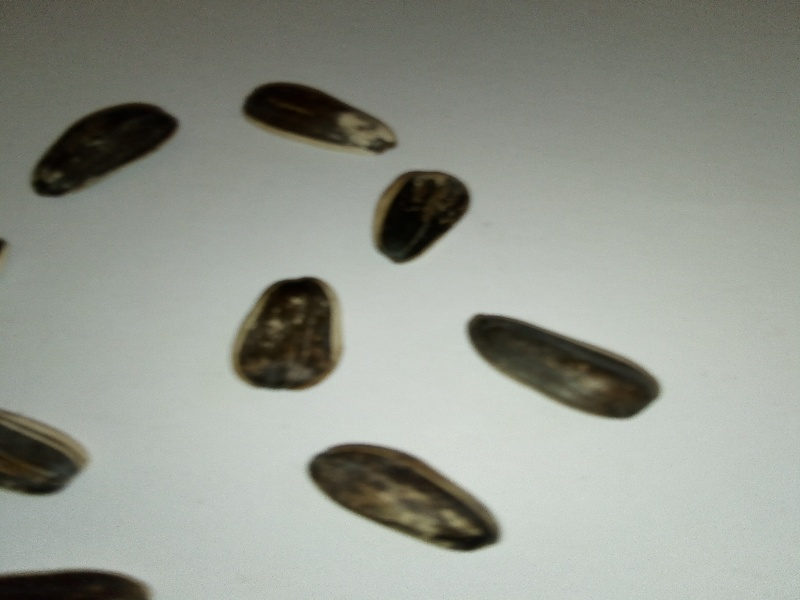girasol: (455, 304, 677, 430), (305, 437, 511, 556), (219, 270, 360, 397), (361, 162, 482, 270)
